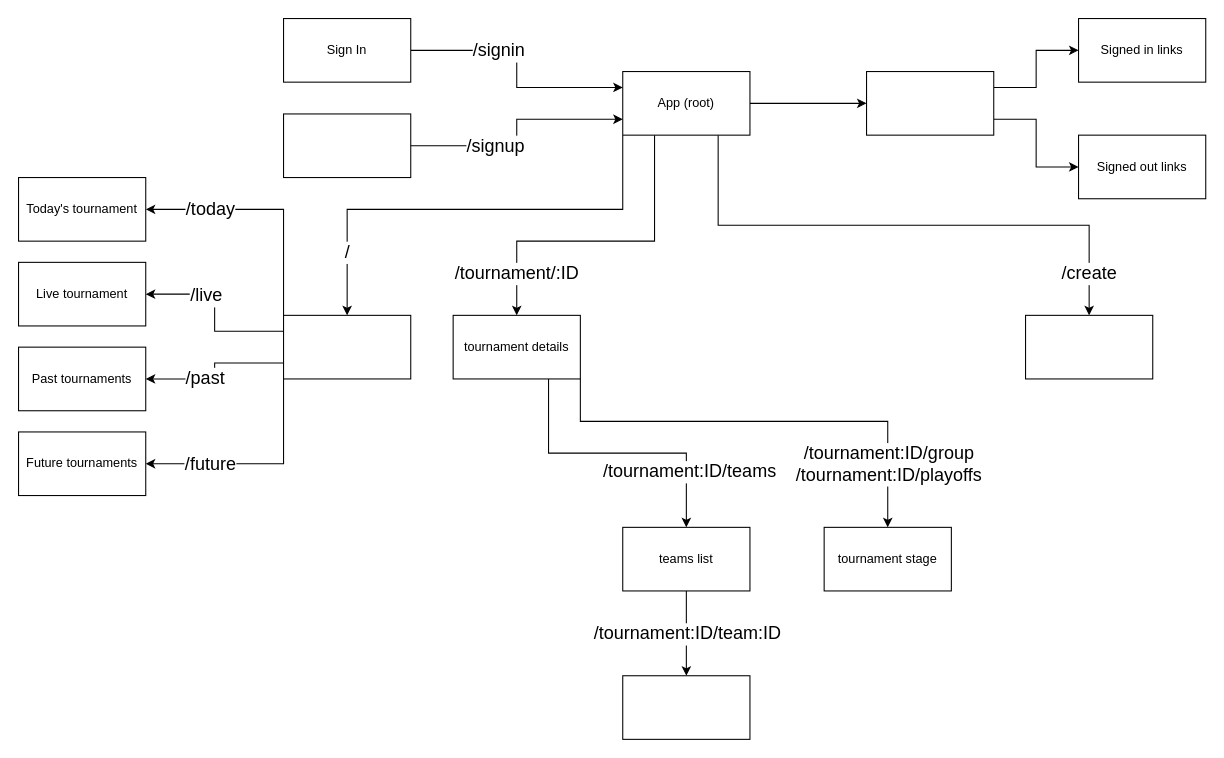
The diagram is 1224 pixels wide and 758 high, and some of its shapes have lost their labels. Each missing label, with the centre of its shape:
Create tournament: point 1088,346
Dashboard: point 346,346
Nav: point 929,102
Sign Up: point 346,145
team details: point 686,707
